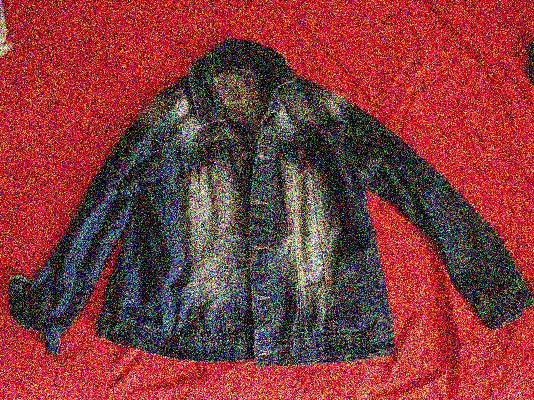Blazer: (12, 34, 516, 359)
